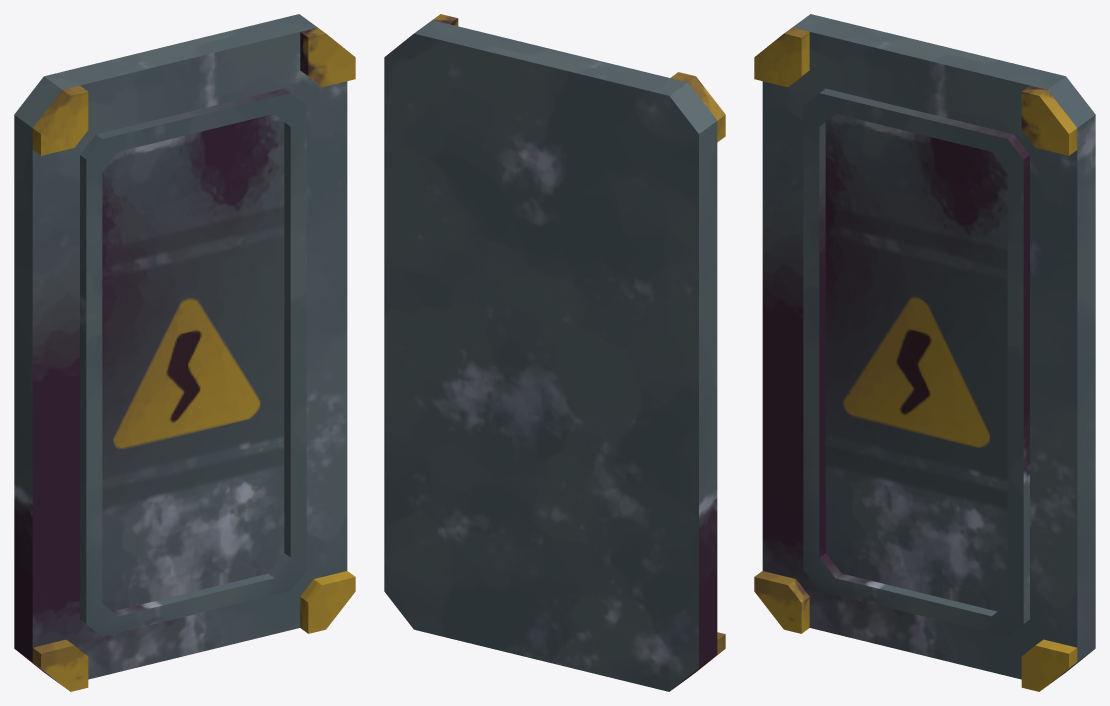
Rendered from FUSEBOX_001.fbx.
The picture shows the model from 3 angles, left to right: view 1: azimuth 30°, elevation 25°; view 2: azimuth 150°, elevation 25°; view 3: azimuth 330°, elevation 25°; orthographic projection.
Visible parts, largest first — view 1: Fusebox.001; view 2: Fusebox.001; view 3: Fusebox.001.
Part boxes in pixels (box(x1,y1,x2,y2)): Fusebox.001: box(14, 14, 355, 691); Fusebox.001: box(384, 14, 725, 691); Fusebox.001: box(754, 14, 1095, 691).
Bounding box in the file's own units: 19.71 × 35.67 × 2.9.
